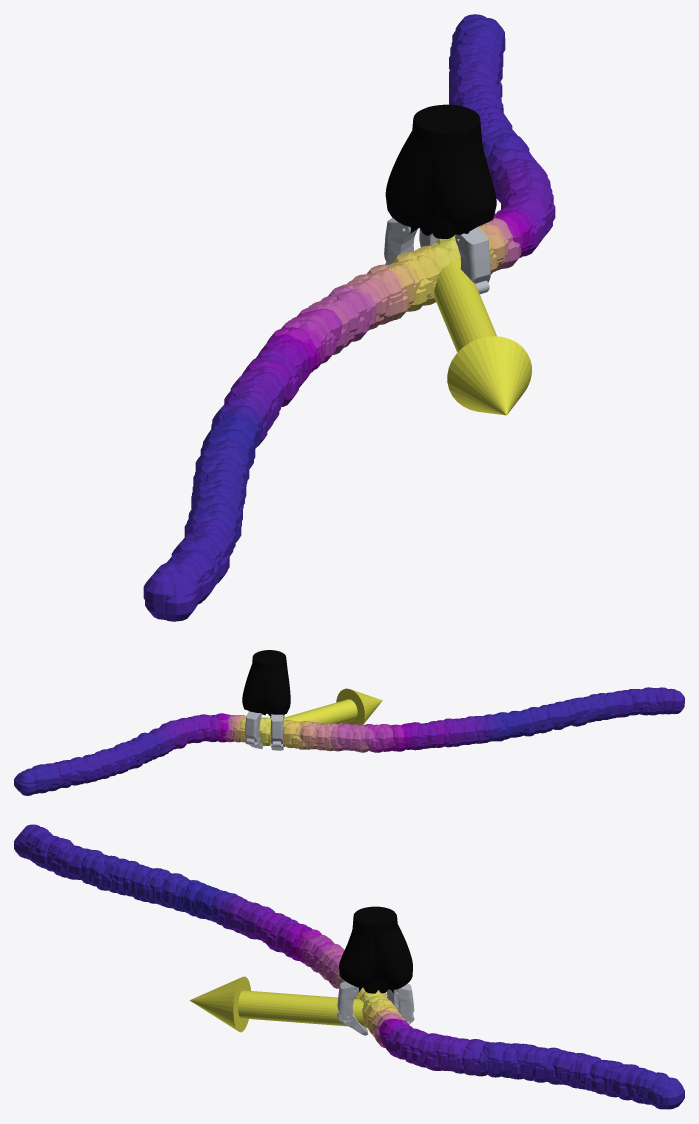
The model's file is pred_hand_0.glb.
The picture shows the model from 3 angles, top to bottom: view 1: azimuth 30°, elevation 25°; view 2: azimuth 150°, elevation 25°; view 3: azimuth 270°, elevation 25°; orthographic projection. The views are drawn at different scales.
Visible parts, largest first — view 1: world, geometry_0d2caccafe185; view 2: world, geometry_0d2caccafe185; view 3: world, geometry_0d2caccafe185.
Boxes of the visible parts, <box> form: world: <box>143,14,555,621</box>; geometry_0d2caccafe185: <box>434,259,531,415</box>; world: <box>14,650,684,795</box>; geometry_0d2caccafe185: <box>283,688,382,724</box>; world: <box>14,824,684,1109</box>; geometry_0d2caccafe185: <box>190,976,366,1032</box>.
Size of the model in its own units: 0.9472 by 0.22 by 1.
